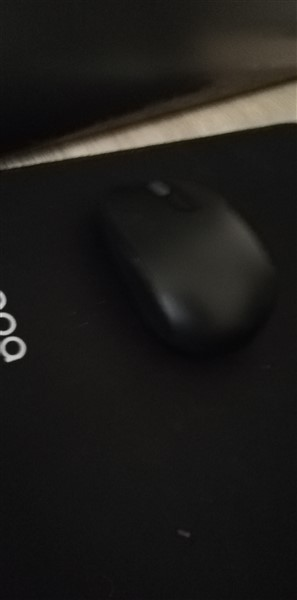mouse: (84, 165, 289, 363)
